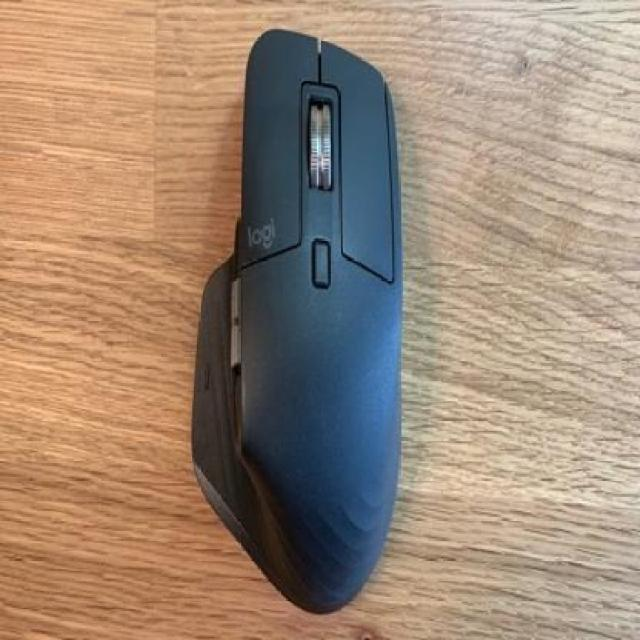not trash: (200, 28, 406, 614)
